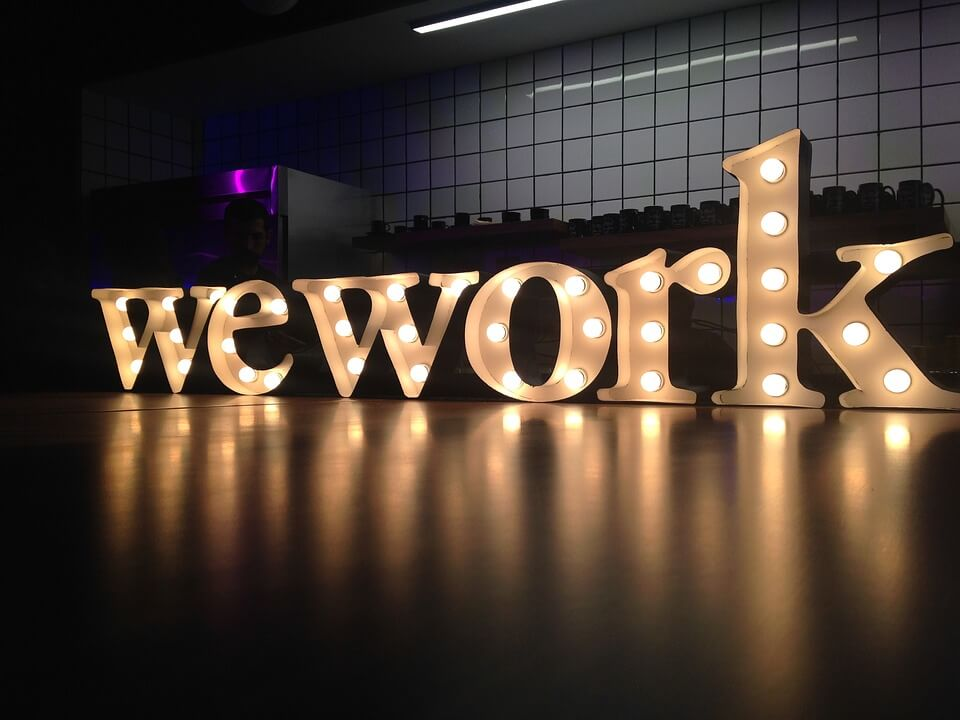wework: (84, 123, 960, 417)
